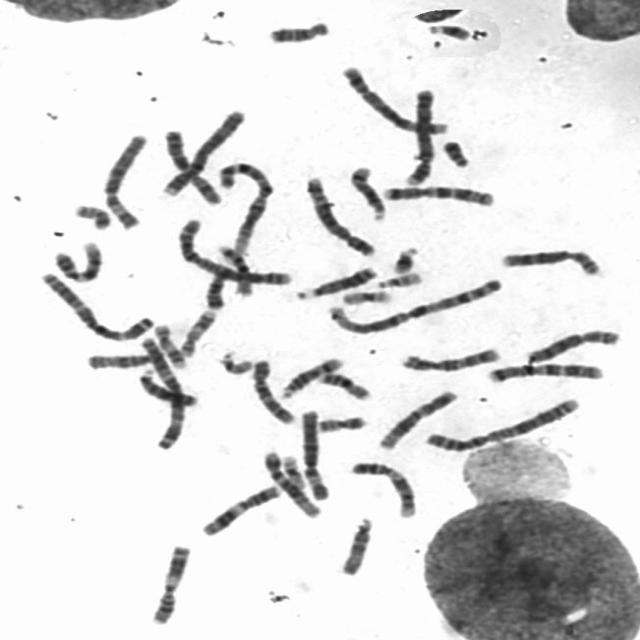A1: (322, 271, 506, 336), (210, 155, 278, 256)
A2: (419, 392, 585, 454), (169, 212, 295, 288)
A3: (33, 265, 158, 342), (132, 330, 190, 452)
B4: (154, 103, 248, 198), (399, 81, 441, 186)
B5: (334, 59, 450, 136), (299, 169, 379, 258)
C10: (244, 352, 299, 426), (394, 341, 504, 373)
C11: (194, 478, 283, 538), (144, 538, 194, 626)
C12: (372, 383, 461, 451), (256, 444, 324, 520)
C6: (94, 127, 152, 230), (294, 402, 332, 502)
C7: (376, 178, 498, 208), (480, 356, 608, 384)
C8: (518, 322, 624, 365), (494, 242, 606, 276)
C9: (342, 454, 420, 519), (46, 234, 105, 284)
D13: (291, 260, 379, 300), (132, 362, 202, 408)
D14: (273, 350, 347, 400), (343, 159, 389, 223)
D15: (333, 511, 377, 576), (82, 345, 158, 371)
E16: (212, 240, 256, 297), (312, 367, 376, 402)
E17: (173, 303, 219, 358), (147, 317, 189, 370)
E18: (262, 14, 334, 45), (199, 268, 236, 312)
F19: (335, 283, 395, 306), (276, 450, 308, 490)
F20: (67, 197, 114, 231), (310, 409, 370, 434)
G21: (385, 239, 423, 274), (423, 17, 474, 42)
G22: (212, 344, 256, 376), (370, 266, 426, 288)
X: (156, 124, 224, 206)
Y: (435, 132, 474, 169)
